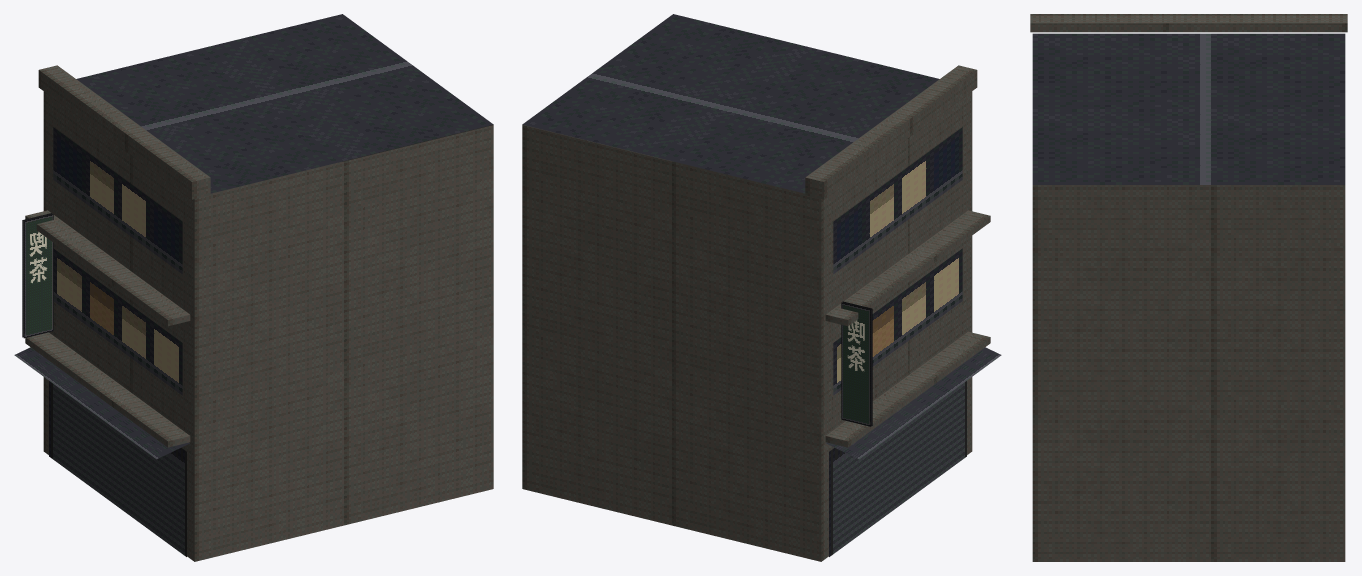
Rendered from mtn_block_al_d.glb.
3 renders of one model, left to right at view 1: azimuth 30°, elevation 25°; view 2: azimuth 150°, elevation 25°; view 3: azimuth 270°, elevation 25°, orthographic. The views are drawn at different scales.
Visible parts, largest first — view 1: mtn_block_al_d; view 2: mtn_block_al_d; view 3: mtn_block_al_d.
Boxes of the visible parts, x1=… form: mtn_block_al_d: x1=14, y1=14, x2=493, y2=561; mtn_block_al_d: x1=522, y1=14, x2=1001, y2=561; mtn_block_al_d: x1=1030, y1=14, x2=1347, y2=561.
Bounding box in the file's own units: 8.95 × 9.75 × 7.1.
Materials: 5 (5 with a texture image).
